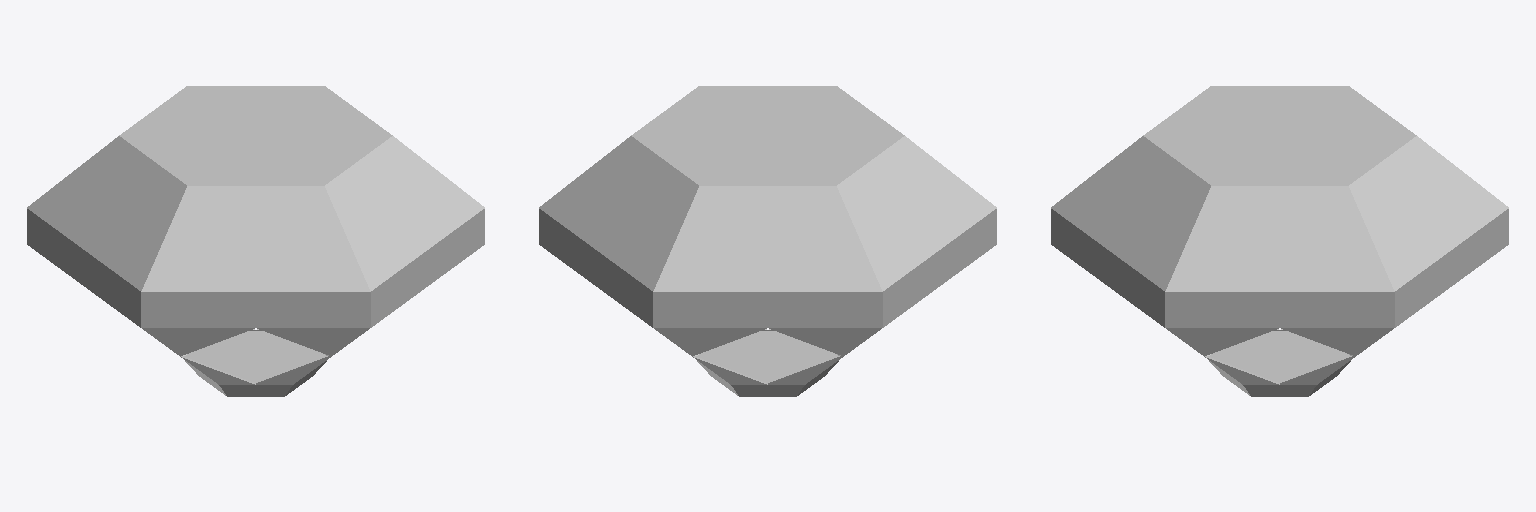
Rendered from 5Ratchet.obj.
The picture shows the model from 3 angles: view 1: azimuth 30°, elevation 25°; view 2: azimuth 150°, elevation 25°; view 3: azimuth 270°, elevation 25°; orthographic projection.
Visible parts, largest first — view 1: 5Ratchet; view 2: 5Ratchet; view 3: 5Ratchet.
Part boxes in pixels (left/top/right/bottom): 5Ratchet: left=27, top=86, right=484, bottom=396; 5Ratchet: left=539, top=86, right=996, bottom=396; 5Ratchet: left=1051, top=86, right=1508, bottom=396.
Size of the model in its own units: 1.97 by 1.32 by 2.28.